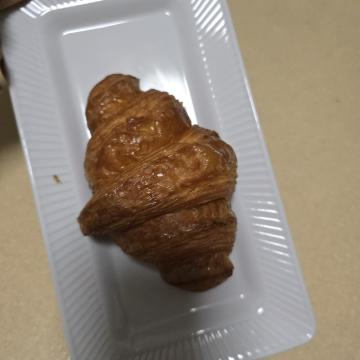croissant: (64, 111, 303, 293)
